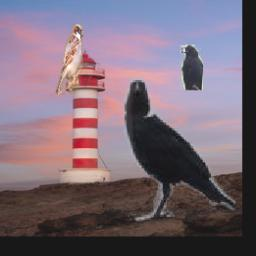Crow: (122, 78, 235, 222), (179, 46, 204, 91)
Sparrow: (56, 24, 84, 96)
